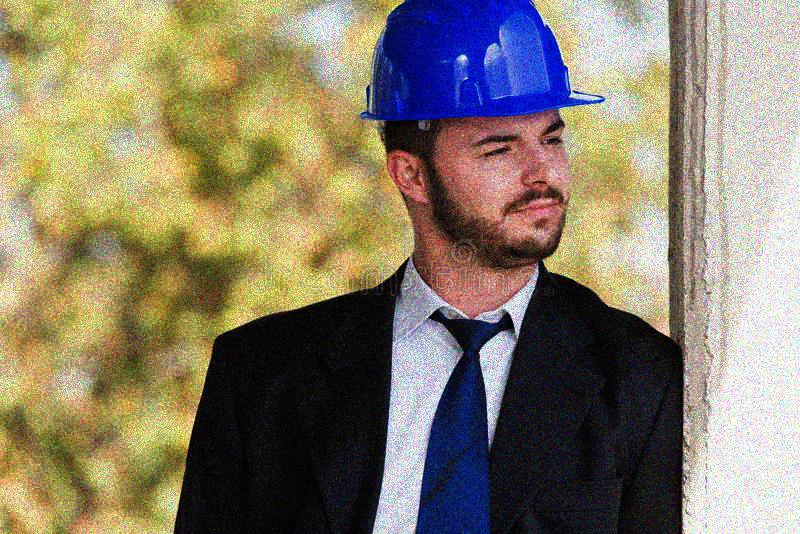helmet: (356, 1, 603, 263)
